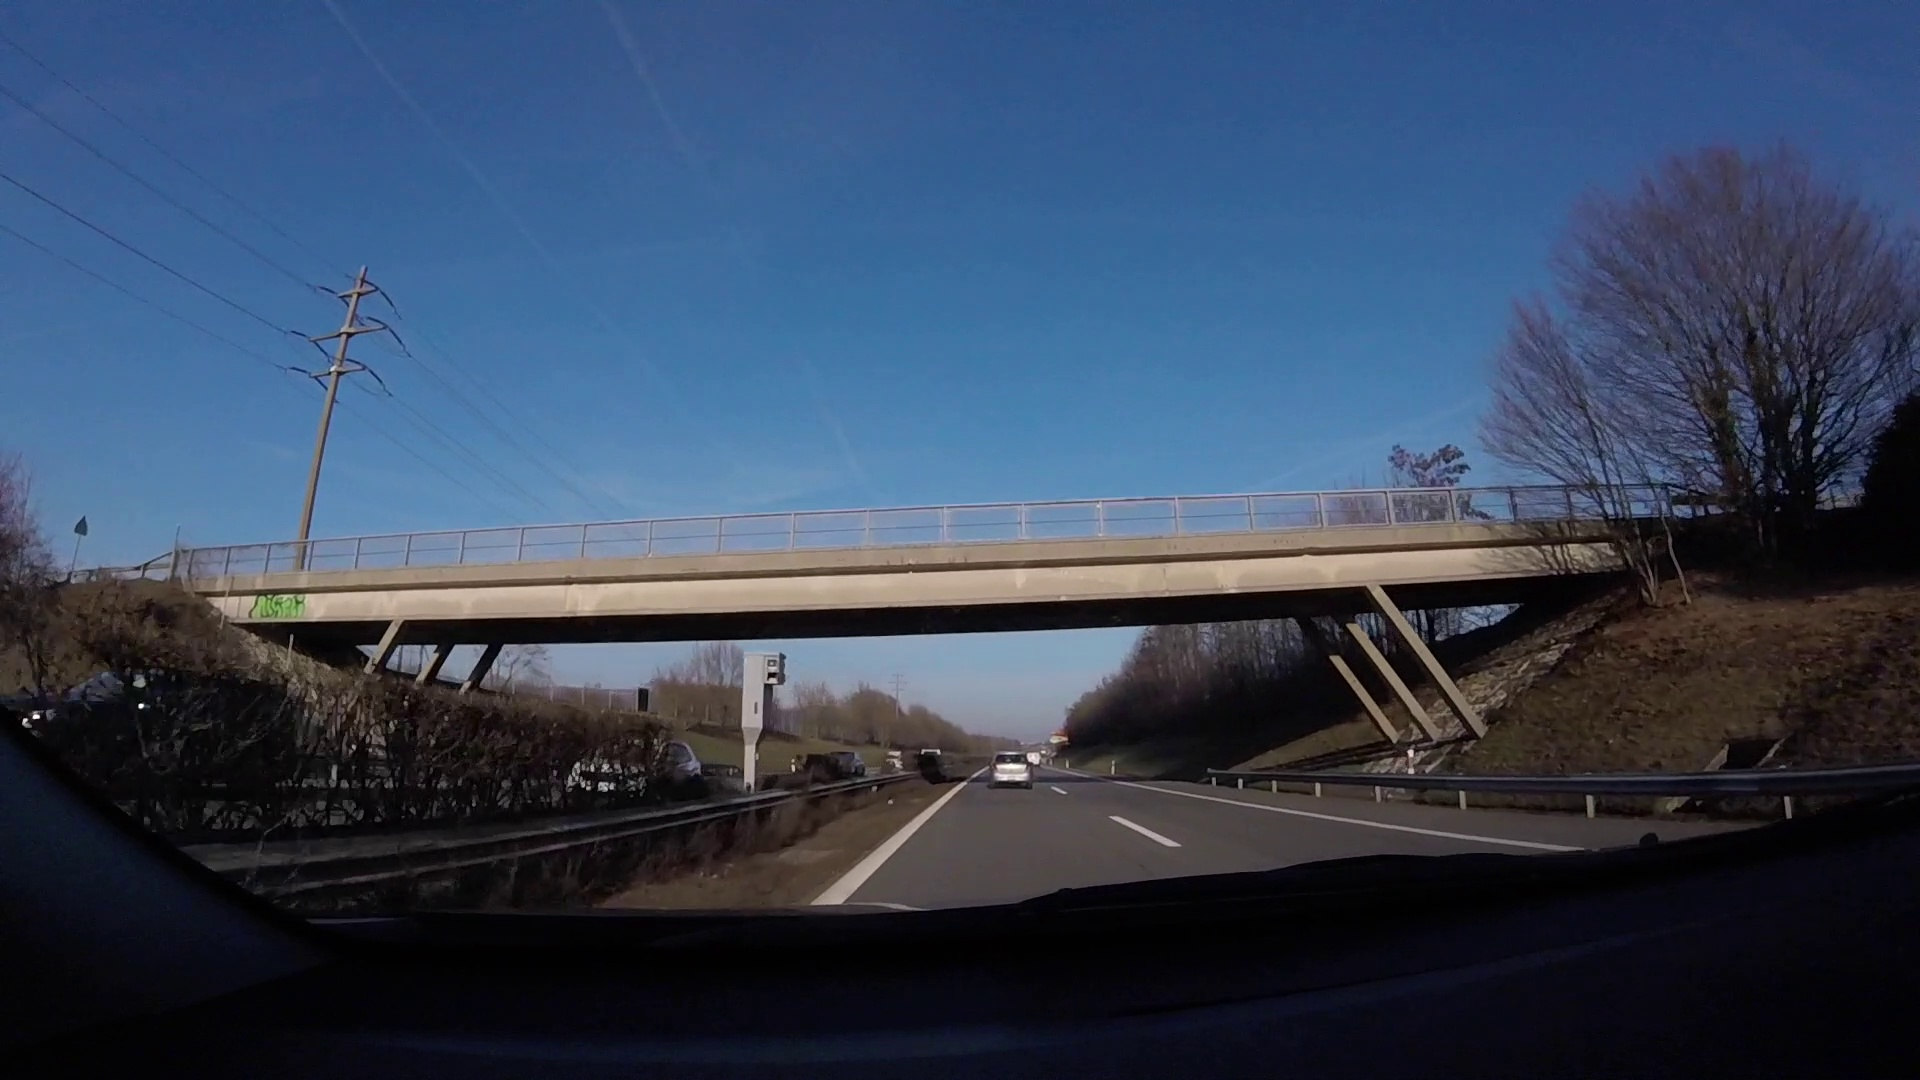radar: (741, 650, 789, 796)
